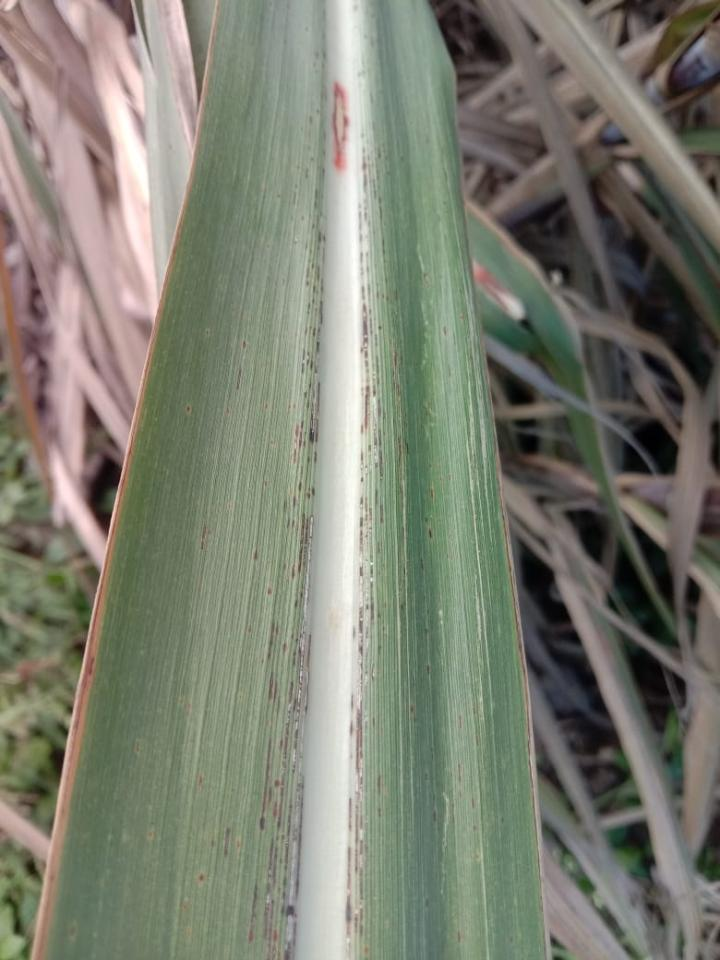RedRot: (333, 82, 349, 170)
Rust: (246, 32, 328, 959), (344, 131, 412, 959)
